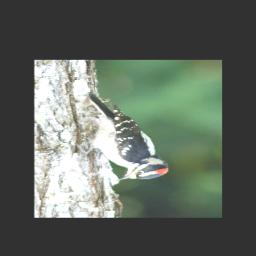Woodpecker: (81, 90, 171, 183)
